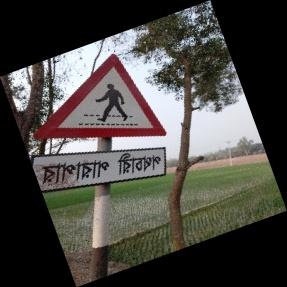Pedestrian-crossing: (31, 53, 169, 189)
